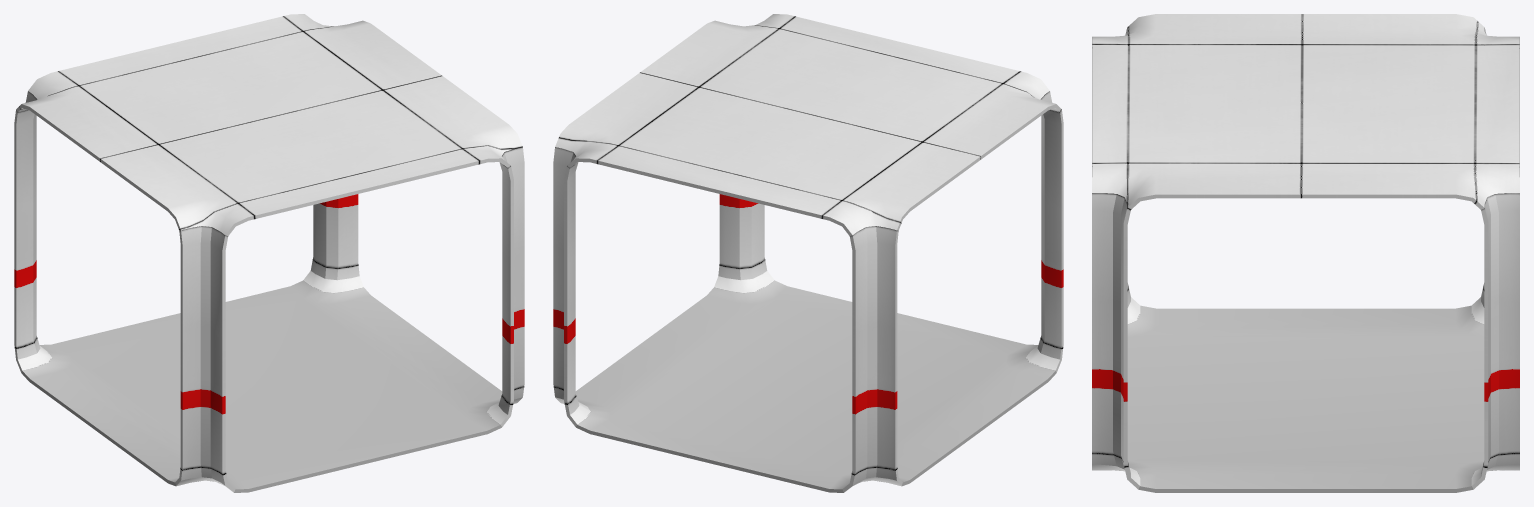
File: Geo_Hallway_XIntersection.FBX
The picture shows the model from 3 angles, left to right: view 1: azimuth 30°, elevation 25°; view 2: azimuth 150°, elevation 25°; view 3: azimuth 270°, elevation 25°; orthographic projection. The views are drawn at different scales.
Parts seen in each view (by area): view 1: HallWay_XIntersection_001; view 2: HallWay_XIntersection_001; view 3: HallWay_XIntersection_001.
Part boxes in pixels (left/top/right/bottom): HallWay_XIntersection_001: left=14, top=14, right=524, bottom=492; HallWay_XIntersection_001: left=553, top=14, right=1063, bottom=492; HallWay_XIntersection_001: left=1092, top=14, right=1519, bottom=492.
Bounding box in the file's own units: 3 × 2.31 × 3.
